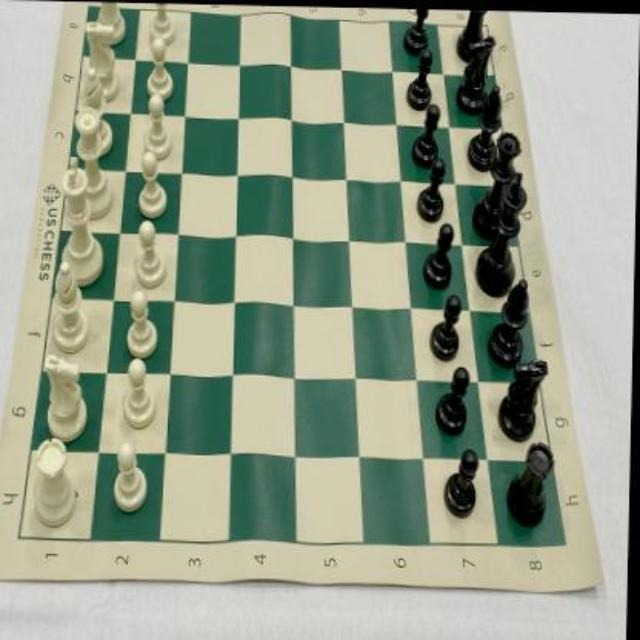black-bishop: (490, 276, 531, 363), (467, 82, 503, 169)
black-king: (474, 167, 529, 297)
black-knight: (500, 355, 550, 441), (457, 32, 495, 113)
black-pawn: (445, 447, 480, 517), (437, 365, 472, 431), (430, 294, 465, 360), (409, 102, 441, 166), (425, 222, 455, 288), (417, 156, 447, 222), (406, 46, 435, 109), (404, 7, 431, 53)
black-queen: (473, 126, 525, 238)
black-rook: (508, 439, 555, 523), (455, 9, 490, 61)
white-bishop: (50, 260, 92, 353), (79, 68, 114, 155)
white-king: (58, 156, 105, 288)
white-knight: (45, 353, 91, 443), (82, 19, 122, 102)
white-pawn: (114, 437, 150, 513), (130, 217, 168, 286), (123, 356, 159, 428), (123, 288, 161, 355), (135, 151, 169, 217), (142, 94, 172, 160), (142, 38, 174, 99), (145, 4, 175, 44)
white-queen: (72, 105, 116, 218)
white-rook: (30, 436, 80, 528), (91, 2, 127, 46)
